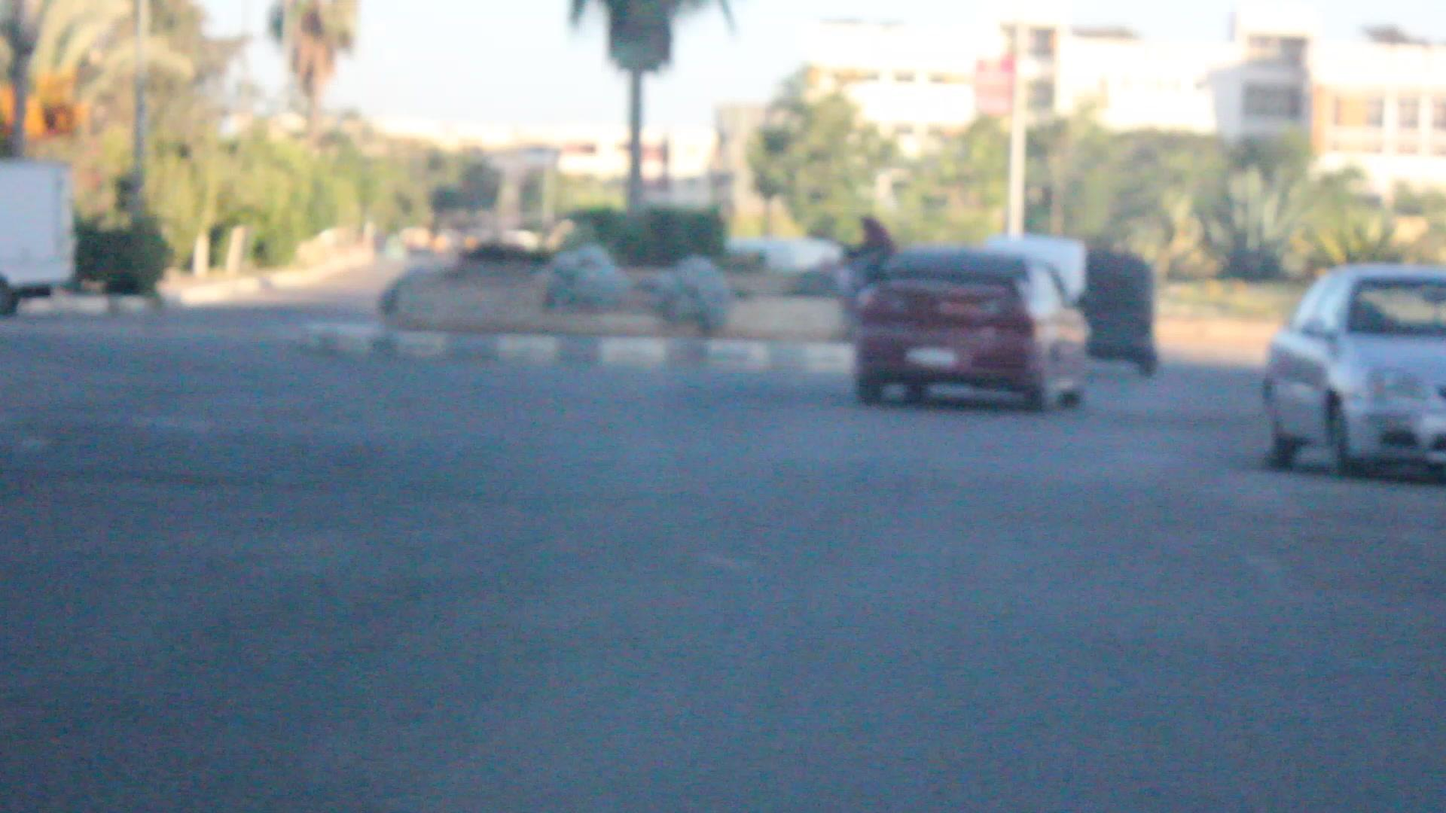Bump: (0, 406, 1445, 546)
